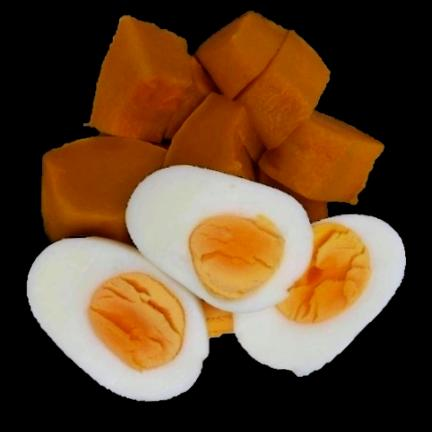egg: (28, 164, 409, 403)
